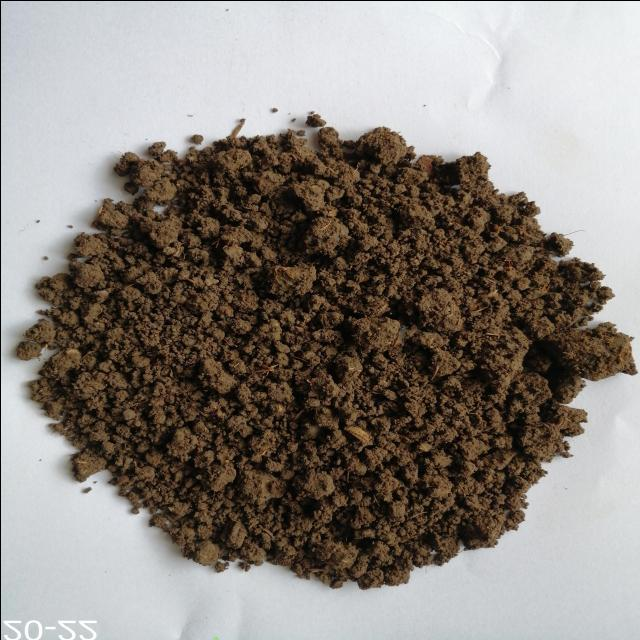soil: (140, 208, 512, 504)
